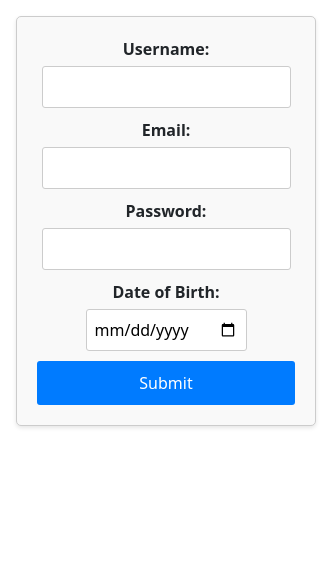
Test: Registration form incorrect data functionality › should display validation error for short password
The image size is (333, 586).
In the password field named "password": (167, 249) [42,228,291,270], type "123"
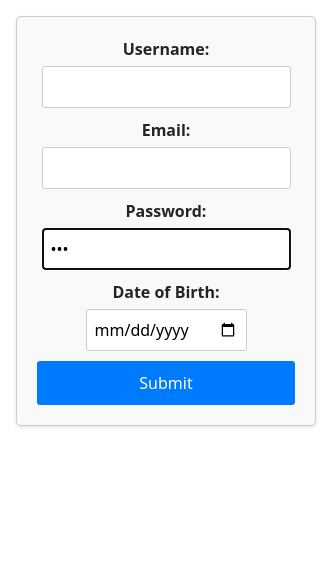
Click the submit button: (166, 383) [37,361,295,405]
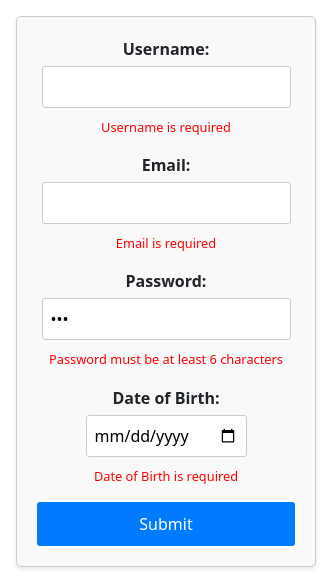
Expected: the text with class "error" reads "Password must be at least 6 characters", [49,350,283,368]
